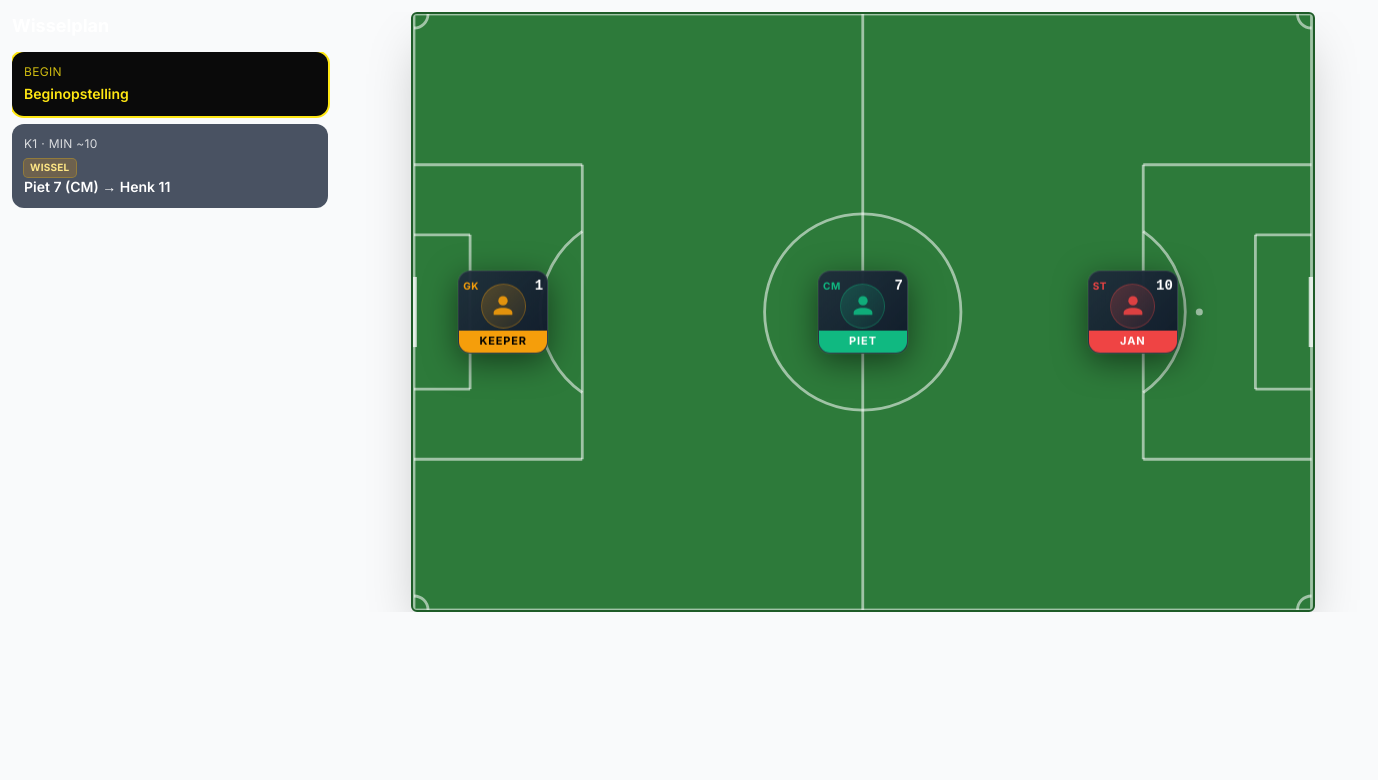
Scenario: PresentSubstitutionPlanView › shows numbered swaps in the sidebar and swaps the pitch on click
expect the text "Beginopstelling" is shown: met, box [24,85,129,102]
expect the element with test id "field-player-a" is shown: met, box [818,271,908,353]
Click the text "Piet 7 (CM) → Henk 11": coordinates (97, 186) [24,178,170,195]
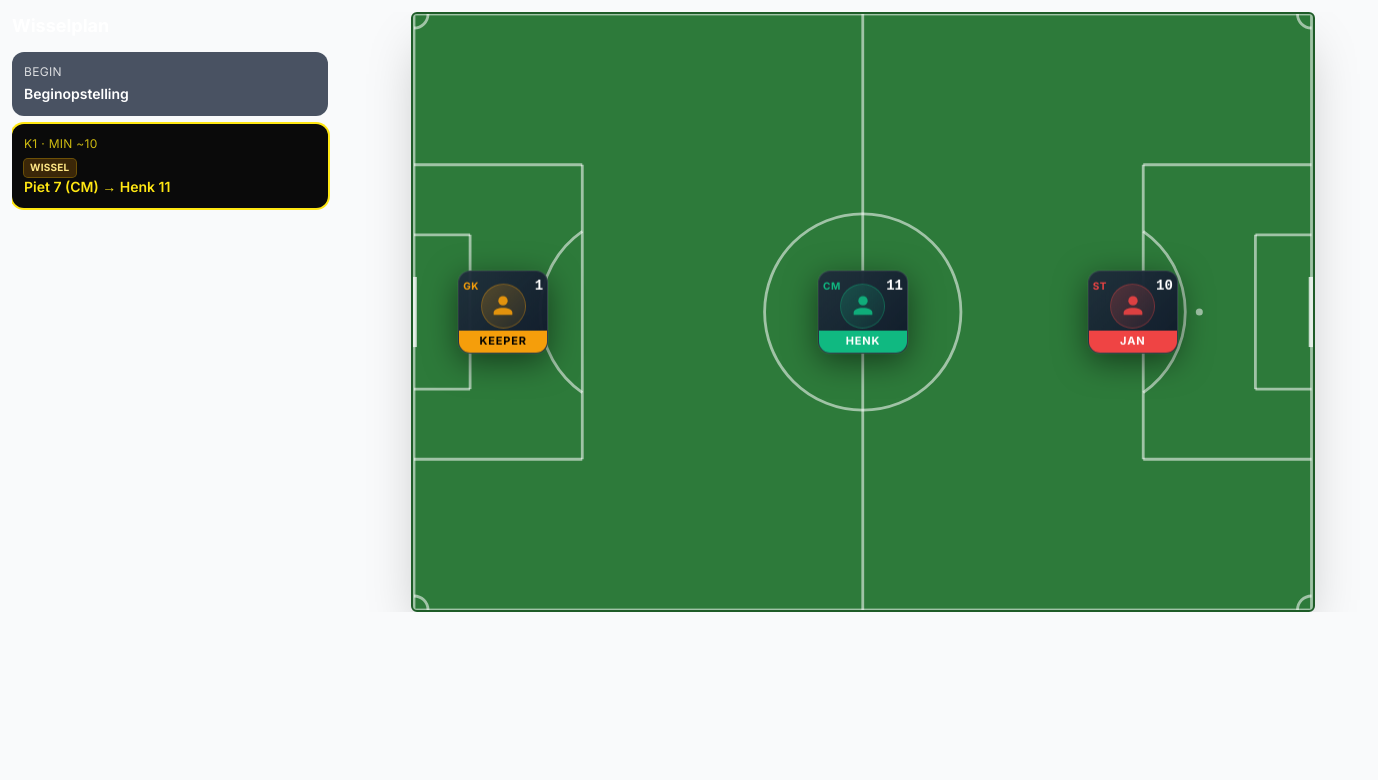
expect the element with test id "field-player-c" is shown: met, box [818,271,908,353]
